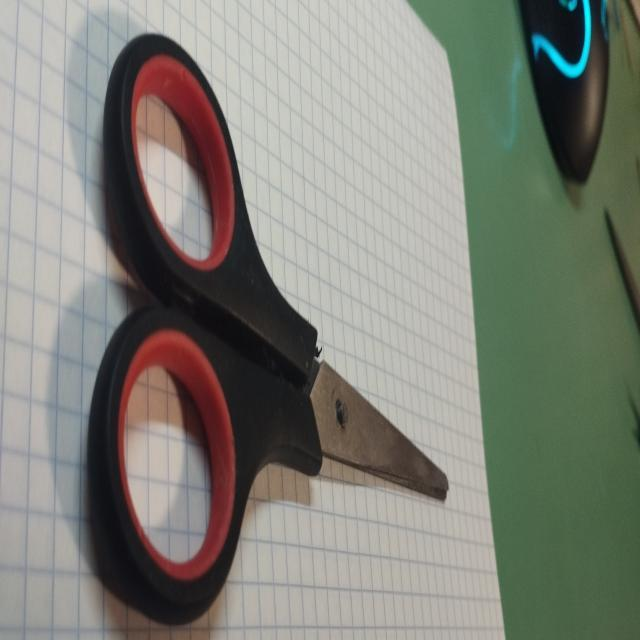tesoura: (85, 26, 453, 640)
